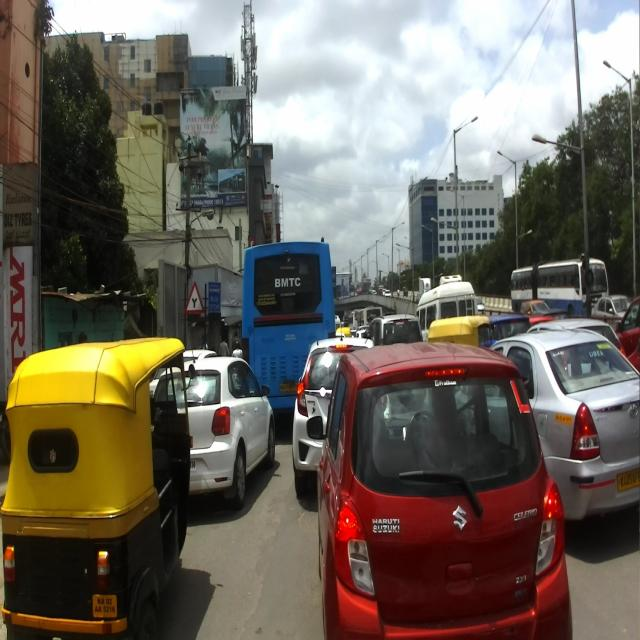autorickshaw: (1, 335, 196, 638)
bus: (241, 241, 336, 361)
car: (306, 339, 572, 639), (488, 329, 639, 520), (152, 334, 276, 511)
